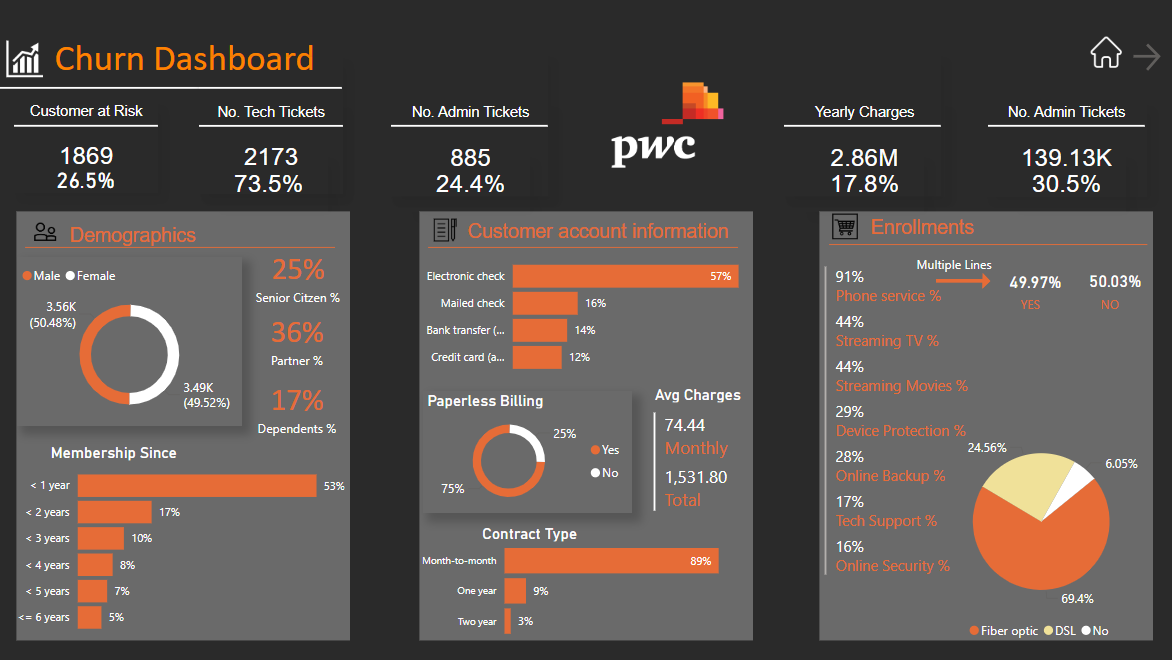

The page's visual inventory and layout, read from the dashboard file:
{"tool":"powerbi","page":{"name":"Churn DB","canvas":[1280,720],"ordinal":1},"visuals":[{"type":"textbox","title":"Churn Dashboard","box":[55.3,38.3,318.9,51],"z":0,"group":"g1"},{"type":"image","box":[663.3,70.9,131.8,131.8],"z":0},{"type":"shape","box":[1057,298.2,40.1,17.4],"z":0,"group":"g2"},{"type":"group","id":"g1","title":"Group 1","box":[0,38.3,374.2,51],"z":1000},{"type":"image","box":[0,39,55.3,49.6],"z":1000,"group":"g1"},{"type":"shape","box":[1021.9,286.3,55.1,41.1],"z":1000,"group":"g2"},{"type":"shape","box":[0,21.3,374.2,150.2],"z":2000},{"type":"shape","box":[16.2,69,157,137],"z":3000},{"type":"shape","box":[218.3,62.4,157.3,150.2],"z":4000},{"type":"shape","box":[428,59.5,171.5,154.5],"z":5000},{"type":"shape","box":[856.1,59.5,171.5,154.5],"z":6000},{"type":"image","box":[1186.3,35.4,43.9,43.9],"z":7000},{"type":"card","title":"No. Tech Tickets","fields":{"Values":["Sum(01 Churn-Dataset.numTechTickets)"]},"box":[218.3,113.4,157.3,97.8],"z":8000},{"type":"card","title":"No. Admin Tickets","fields":{"Values":["Sum(01 Churn-Dataset.numAdminTickets)"]},"box":[426.6,113.4,175.7,100.6],"z":9000},{"type":"card","title":"Yearly Charges","fields":{"Values":["Sum(01 Churn-Dataset.Total_Charges)"]},"box":[856.1,113.4,175.7,100.6],"z":10000},{"type":"card","title":"Customer at Risk","fields":{"Values":["Count(01 Churn-Dataset.customerID)"]},"box":[16,112.7,157.3,97.8],"z":11000},{"type":"card","fields":{"Values":["01 Churn-Dataset.Customers at risk%"]},"box":[29.7,165,130,61],"z":12000},{"type":"card","fields":{"Values":["01 Churn-Dataset.TechTickets%"]},"box":[228.9,170.1,130.4,60.9],"z":13000},{"type":"shape","box":[1078.6,59.5,171.5,154.5],"z":14000},{"type":"card","fields":{"Values":["01 Churn-Dataset.AdminTickets%"]},"box":[449.3,170.1,130.4,60.9],"z":15000},{"type":"card","title":"No. Admin Tickets","fields":{"Values":["Sum(01 Churn-Dataset.MonthlyCharges)"]},"box":[1077.2,113.4,175.7,100.6],"z":16000},{"type":"card","fields":{"Values":["01 Churn-Dataset.YearlyCharges%"]},"box":[878.7,170.1,130.4,60.9],"z":17000},{"type":"card","fields":{"Values":["01 Churn-Dataset.MonthlyCharge%"]},"box":[1099.8,170.1,130.4,60.9],"z":18000},{"type":"basicShape","box":[15.6,225.4,371.3,477.6],"z":19000},{"type":"image","box":[28,238,44,30],"z":20000},{"type":"basicShape","box":[18,251,358,38],"z":21000},{"type":"textbox","title":"Demographics","box":[72,245,149,23],"z":22000},{"type":"donutChart","fields":{"Category":["01 Churn-Dataset.gender"],"Y":["CountNonNull(01 Churn-Dataset.gender)"]},"box":[19.8,280.6,245.2,184.3],"z":23000},{"type":"card","fields":{"Values":["01 Churn-Dataset.SeniorCitzen%"]},"box":[265,249.4,121.9,100.6],"z":24000},{"type":"card","fields":{"Values":["01 Churn-Dataset.Partner %"]},"box":[266.5,318.9,117.6,100.6],"z":25000},{"type":"card","fields":{"Values":["01 Churn-Dataset.Dependents %"]},"box":[266.5,392.6,117.6,100.6],"z":26000},{"type":"clusteredBarChart","fields":{"Category":["01 Churn-Dataset.Loyalty"],"Y":["CountNonNull(01 Churn-Dataset.Churn)"]},"box":[11.3,493.2,371.3,209.8],"z":27000},{"type":"textbox","title":"Membership Since","box":[19.8,483.3,211.2,51],"z":28000},{"type":"basicShape","box":[455,225.4,371.3,477.6],"z":29000},{"type":"basicShape","box":[891.5,225.4,371.3,477.6],"z":30000},{"type":"basicShape","box":[458.7,251.1,358,38],"z":31000},{"type":"textbox","title":"Customer account information","box":[506,240.9,304.7,22.7],"z":32000},{"type":"image","box":[459.2,233.9,55.3,35.4],"z":33000},{"type":"clusteredBarChart","fields":{"Y":["CountNonNull(01 Churn-Dataset.Churn)"],"Category":["01 Churn-Dataset.PaymentMethod"]},"box":[449.3,263.6,391.2,155.9],"z":34000},{"type":"pieChart","title":"Paperless Billing","fields":{"Y":["Divide(CountNonNull(01 Churn-Dataset.Churn), ScopedEval(CountNonNull(01 Churn-Dataset.Churn), []))"],"Category":["01 Churn-Dataset.PaperlessBilling"]},"box":[462,426.6,228.2,133.2],"z":35000},{"type":"multiRowCard","fields":{"Values":["Avg(01 Churn-Dataset.MonthlyCharges)","Avg(01 Churn-Dataset.Total_Charges)"]},"box":[708.7,445,109.1,126.1],"z":36000},{"type":"textbox","title":"Avg Charges","box":[656.2,419.5,211.2,25.5],"z":37000},{"type":"clusteredBarChart","fields":{"Y":["CountNonNull(01 Churn-Dataset.Churn)"],"Category":["01 Churn-Dataset.Contract"]},"box":[449.3,571.2,371.3,138.9],"z":38000},{"type":"textbox","title":"Contract Type","box":[473.4,571.2,211.2,25.5],"z":39000},{"type":"basicShape","box":[895.7,248,367.1,38.3],"z":40000},{"type":"textbox","title":"Enrollments ","box":[945.4,236.7,134.6,28.3],"z":41000},{"type":"image","box":[898.6,228.2,48.2,38.3],"z":42000},{"type":"multiRowCard","fields":{"Values":["01 Churn-Dataset.Phone service %","01 Churn-Dataset.Streaming TV %","01 Churn-Dataset.Streaming Movies %","01 Churn-Dataset.Device Protection %","01 Churn-Dataset.Online Backup %","01 Churn-Dataset.Tech Support %","01 Churn-Dataset.Online Security %"]},"box":[895.7,286.3,194.2,364.3],"z":43000},{"type":"group","id":"g2","title":"Group 2","box":[1021.9,286.3,75.1,41.1],"z":44000},{"type":"card","title":"NO","fields":{"Values":["01 Churn-Dataset.Multiple lines no in %"]},"box":[1086.7,283.5,87.9,49.6],"z":45000},{"type":"card","title":"NO","fields":{"Values":["01 Churn-Dataset.Multiple lines Yes in %"]},"box":[1173.1,280.6,89.3,52.4],"z":46000},{"type":"textbox","box":[1109.8,318.9,41.1,26.9],"z":47000},{"type":"textbox","box":[1196.2,318.9,41.1,26.9],"z":48000},{"type":"pieChart","fields":{"Category":["01 Churn-Dataset.InternetService"],"Y":["CountNonNull(01 Churn-Dataset.InternetService)"]},"box":[993.5,460.6,286.3,246.6],"z":49000},{"type":"textbox","box":[996.4,275,100.6,26.9],"z":50000},{"type":"actionButton","box":[1231.7,42.5,48.2,39.7],"z":51000}]}

Visuals, with their boxes in screenshot pixels (x1, y1, x2, y2), scaled from the page's 1280x720 canvas onto the 1172x660 screenshot:
"Churn Dashboard" textbox: l=51, t=35, r=343, b=82
image: l=607, t=65, r=728, b=186
shape: l=968, t=273, r=1005, b=289
"Group 1" group: l=0, t=35, r=343, b=82
image: l=0, t=36, r=51, b=81
shape: l=936, t=262, r=986, b=300
shape: l=0, t=20, r=343, b=157
shape: l=15, t=63, r=159, b=189
shape: l=200, t=57, r=344, b=195
shape: l=392, t=55, r=549, b=196
shape: l=784, t=55, r=941, b=196
image: l=1086, t=32, r=1126, b=73
"No. Tech Tickets" card: l=200, t=104, r=344, b=194
"No. Admin Tickets" card: l=391, t=104, r=551, b=196
"Yearly Charges" card: l=784, t=104, r=945, b=196
"Customer at Risk" card: l=15, t=103, r=159, b=193
card - 01 Churn-Dataset.Customers at risk%: l=27, t=151, r=146, b=207
card - 01 Churn-Dataset.TechTickets%: l=210, t=156, r=329, b=212
shape: l=988, t=55, r=1145, b=196
card - 01 Churn-Dataset.AdminTickets%: l=411, t=156, r=531, b=212
"No. Admin Tickets" card: l=986, t=104, r=1147, b=196
card - 01 Churn-Dataset.YearlyCharges%: l=805, t=156, r=924, b=212
card - 01 Churn-Dataset.MonthlyCharge%: l=1007, t=156, r=1126, b=212
basicShape: l=14, t=207, r=354, b=644
image: l=26, t=218, r=66, b=246
basicShape: l=16, t=230, r=344, b=265
"Demographics" textbox: l=66, t=225, r=202, b=246
donutChart - 01 Churn-Dataset.gender x CountNonNull(01 Churn-Dataset.gender): l=18, t=257, r=243, b=426
card - 01 Churn-Dataset.SeniorCitzen%: l=243, t=229, r=354, b=321
card - 01 Churn-Dataset.Partner %: l=244, t=292, r=352, b=385
card - 01 Churn-Dataset.Dependents %: l=244, t=360, r=352, b=452
clusteredBarChart - 01 Churn-Dataset.Loyalty x CountNonNull(01 Churn-Dataset.Churn): l=10, t=452, r=350, b=644
"Membership Since" textbox: l=18, t=443, r=212, b=490
basicShape: l=417, t=207, r=757, b=644
basicShape: l=816, t=207, r=1156, b=644
basicShape: l=420, t=230, r=748, b=265
"Customer account information" textbox: l=463, t=221, r=742, b=242
image: l=420, t=214, r=471, b=247
clusteredBarChart - CountNonNull(01 Churn-Dataset.Churn) x 01 Churn-Dataset.PaymentMethod: l=411, t=242, r=770, b=385
"Paperless Billing" pieChart: l=423, t=391, r=632, b=513
multiRowCard - Avg(01 Churn-Dataset.MonthlyCharges) x Avg(01 Churn-Dataset.Total_Charges): l=649, t=408, r=749, b=524
"Avg Charges" textbox: l=601, t=385, r=794, b=408
clusteredBarChart - CountNonNull(01 Churn-Dataset.Churn) x 01 Churn-Dataset.Contract: l=411, t=524, r=751, b=651
"Contract Type" textbox: l=433, t=524, r=627, b=547
basicShape: l=820, t=227, r=1156, b=262
"Enrollments " textbox: l=866, t=217, r=989, b=243
image: l=823, t=209, r=867, b=244
multiRowCard - 01 Churn-Dataset.Phone service % x 01 Churn-Dataset.Streaming TV %: l=820, t=262, r=998, b=596
"Group 2" group: l=936, t=262, r=1004, b=300
"NO" card: l=995, t=260, r=1075, b=305
"NO" card: l=1074, t=257, r=1156, b=305
textbox: l=1016, t=292, r=1054, b=317
textbox: l=1095, t=292, r=1133, b=317
pieChart - 01 Churn-Dataset.InternetService x CountNonNull(01 Churn-Dataset.InternetService): l=910, t=422, r=1171, b=648
textbox: l=912, t=252, r=1004, b=277
actionButton: l=1128, t=39, r=1171, b=75
